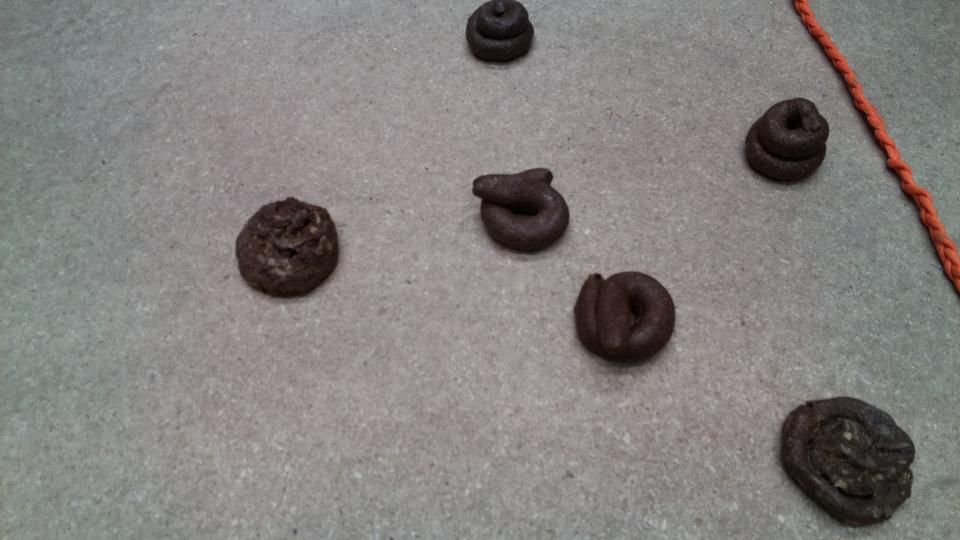poop: (775, 390, 921, 529), (233, 193, 345, 303), (571, 266, 679, 369), (470, 164, 573, 258), (740, 93, 837, 188), (463, 1, 536, 67)
rope: (792, 1, 960, 284)
